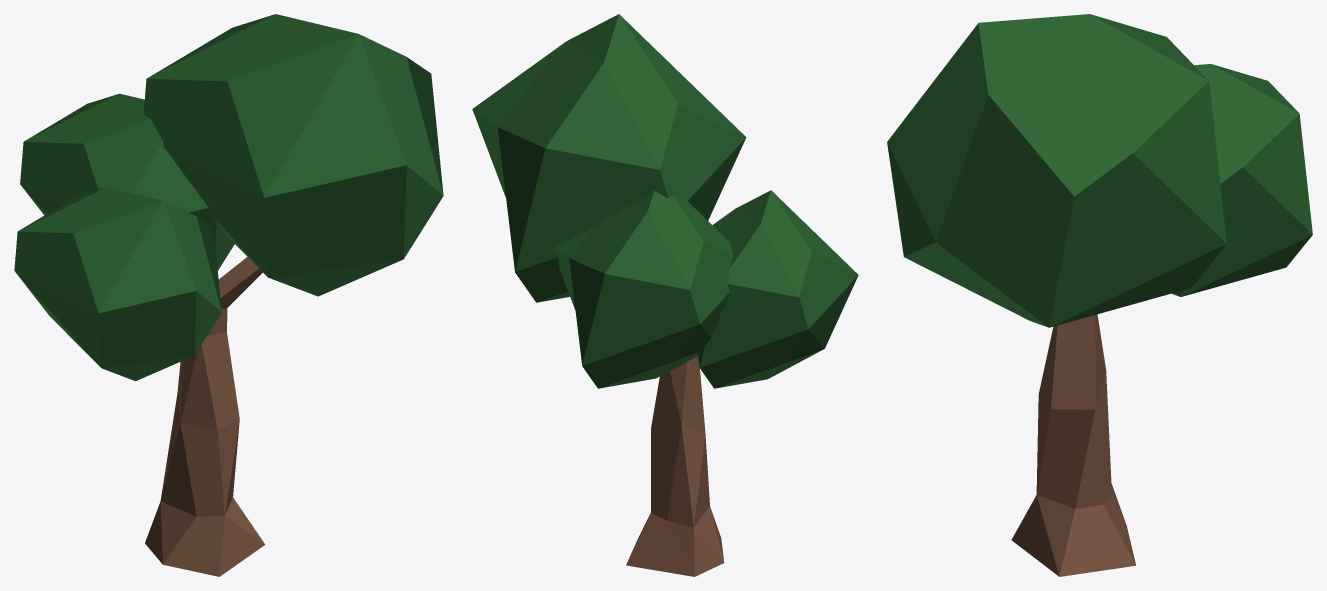
File: pohon1Base.fbx
3 renders of one model, left to right at view 1: azimuth 30°, elevation 25°; view 2: azimuth 150°, elevation 25°; view 3: azimuth 270°, elevation 25°, orthographic. The views are drawn at different scales.
Parts seen in each view (by area): view 1: pohon1; view 2: pohon1; view 3: pohon1.
Boxes of the visible parts, x1,y1,x2,y2 form: pohon1: (14, 14, 443, 576); pohon1: (472, 14, 858, 576); pohon1: (887, 14, 1312, 576).
Bounding box in the file's own units: 495 × 635 × 419.
Materials: 1 (1 with a texture image).
